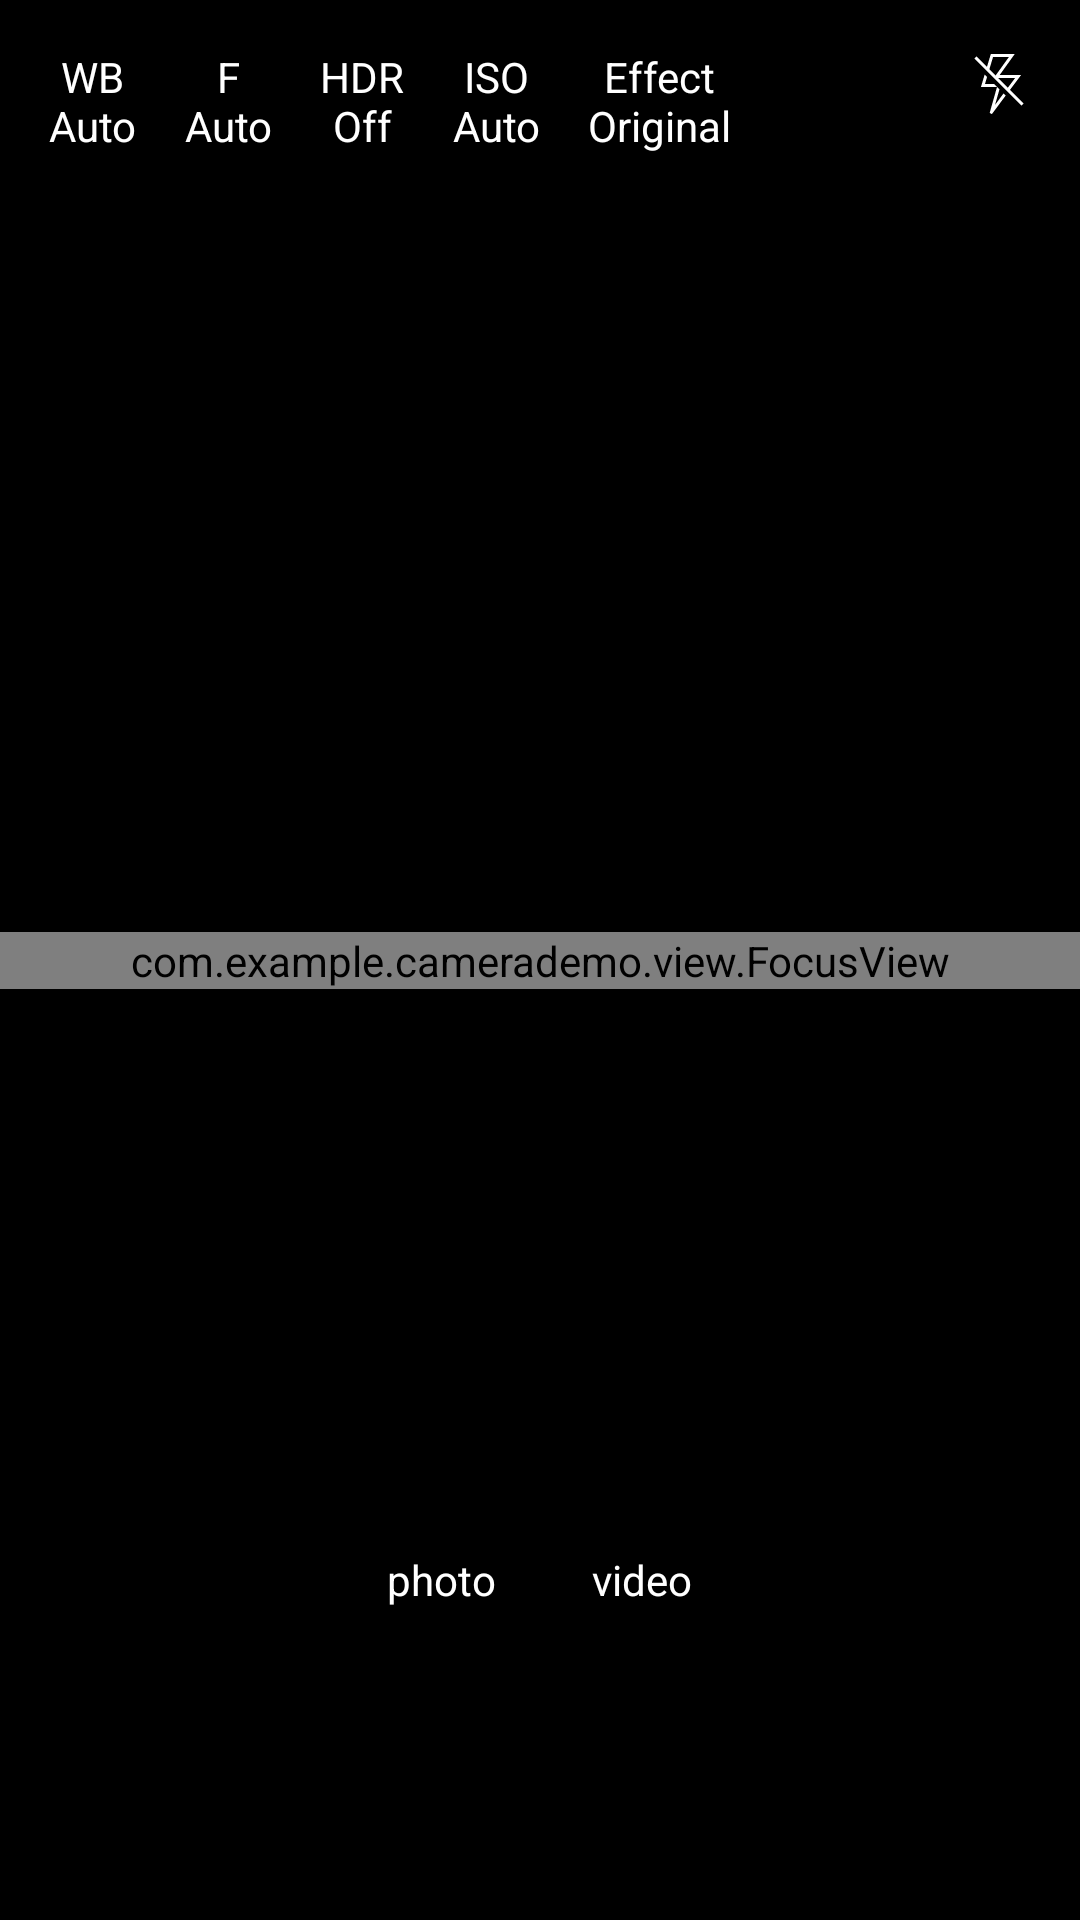

Icons on this 1080×1920 Android screen, each with the point to tap as (x=x, y=y):
flashlight: (x=999, y=84)
